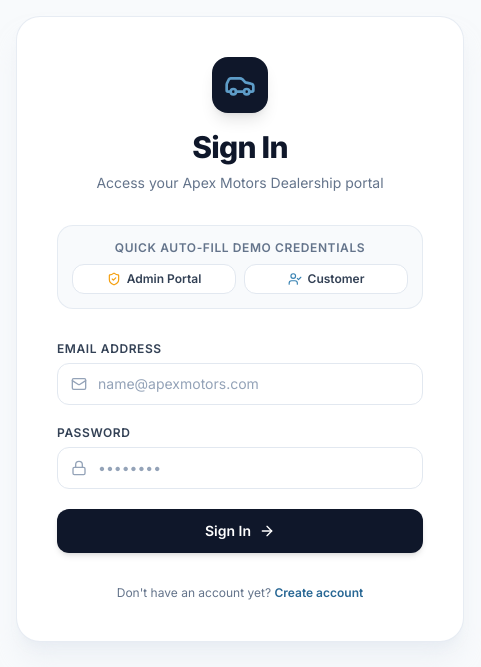
LoginPage Component › populates fields when clicking quick demo admin button
What coordinates should you click on to do the following:
click the button "Admin Portal"
I would click on:
 (154, 279)
Its box is [72,264,236,294].
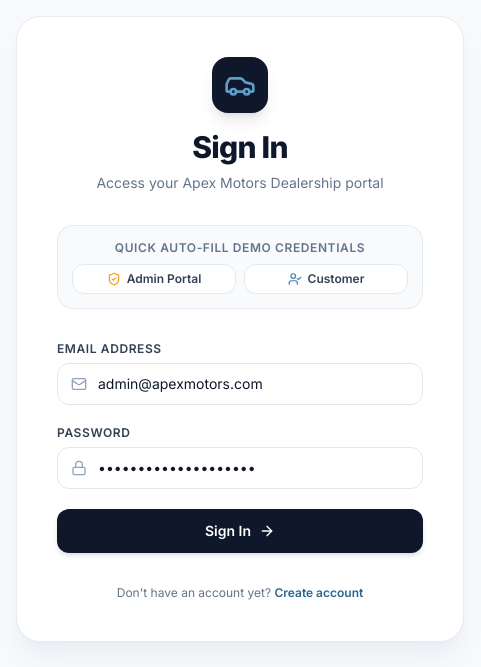
Check: the field with placeholder "name@apexmotors.com" holds "admin@apexmotors.com", box [57,363,423,405]
